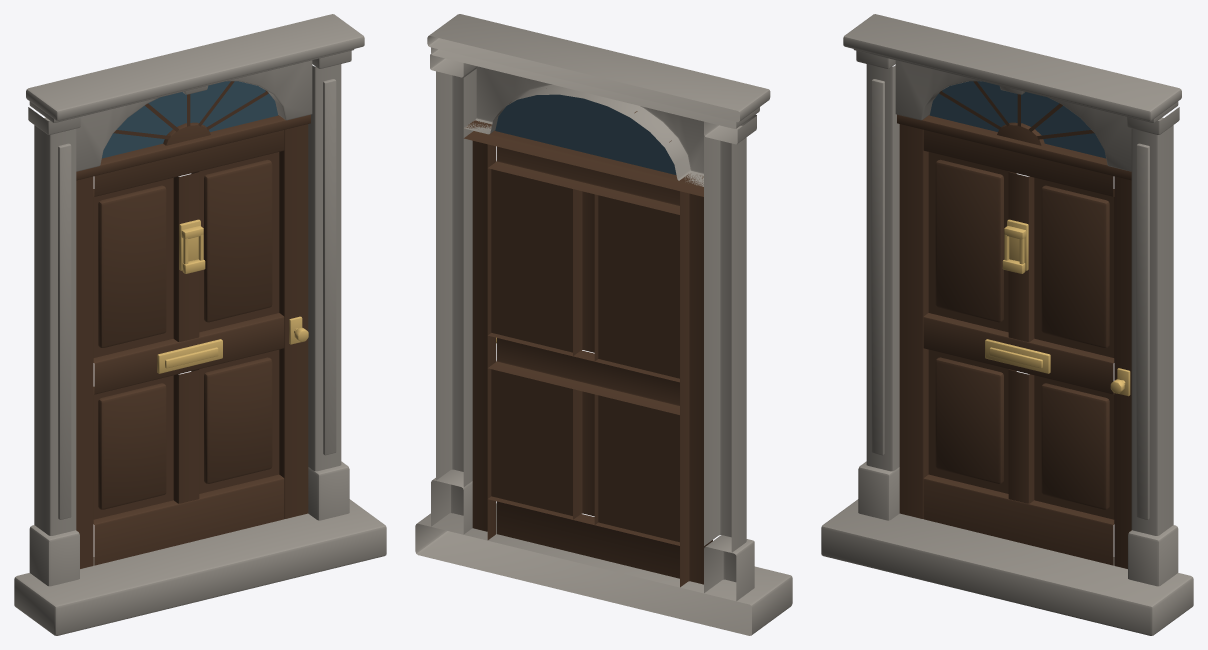
File: Door.fbx
3 views of the same model, side by side, from view 1: azimuth 30°, elevation 25°; view 2: azimuth 150°, elevation 25°; view 3: azimuth 330°, elevation 25° (orthographic).
Visible parts, largest first — view 1: Door_Wood, Door_Stone, Door_Glass, Door_Brass; view 2: Door_Wood, Door_Stone, Door_Glass; view 3: Door_Wood, Door_Stone, Door_Glass, Door_Brass.
Part boxes in pixels (left/top/right/bottom): Door_Wood: left=76, top=81, right=310, bottom=568; Door_Stone: left=14, top=14, right=386, bottom=635; Door_Glass: left=102, top=81, right=278, bottom=158; Door_Brass: left=157, top=219, right=308, bottom=373; Door_Wood: left=464, top=102, right=712, bottom=587; Door_Stone: left=415, top=14, right=792, bottom=635; Door_Glass: left=495, top=94, right=676, bottom=174; Door_Wood: left=897, top=81, right=1131, bottom=568; Door_Stone: left=821, top=14, right=1193, bottom=635; Door_Glass: left=929, top=81, right=1105, bottom=158; Door_Brass: left=985, top=219, right=1130, bottom=396.
Bounding box in the file's own units: 5.6 × 8.3 × 1.2.
